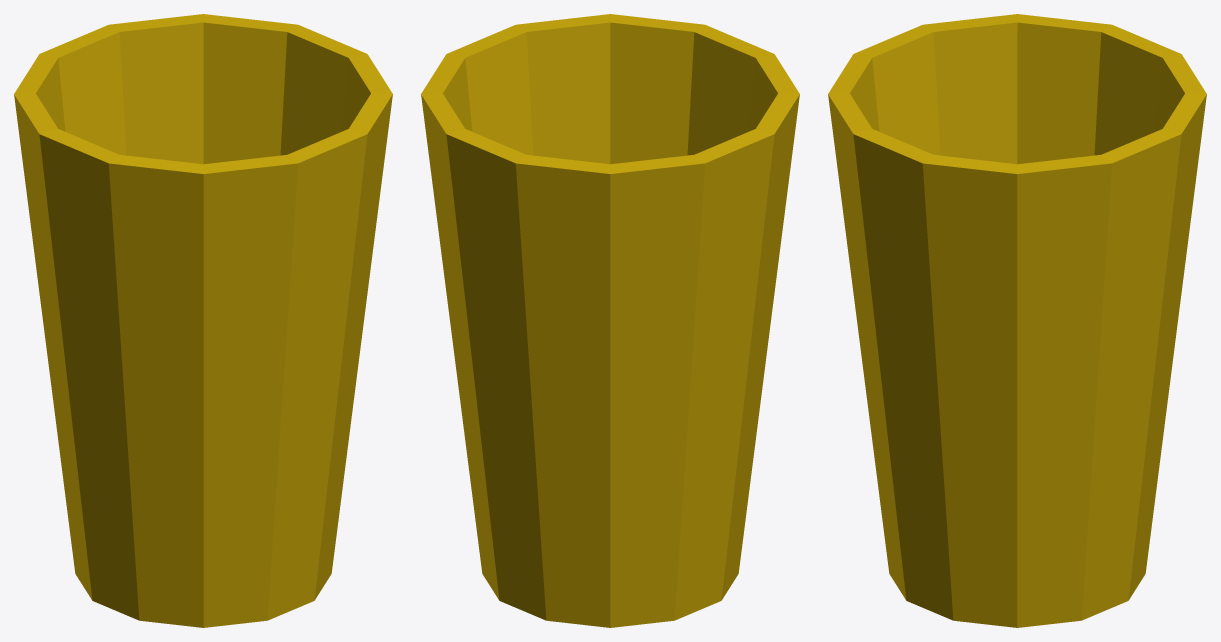
The model's file is LudumDareTrashCan 1.fbx.
3 renders of one model, left to right at view 1: azimuth 30°, elevation 25°; view 2: azimuth 150°, elevation 25°; view 3: azimuth 270°, elevation 25°, orthographic.
Visible parts, largest first — view 1: Trash Can; view 2: Trash Can; view 3: Trash Can.
Part boxes in pixels (x1,y1,x2,y2): Trash Can: (14,14,392,627); Trash Can: (421,14,799,627); Trash Can: (828,14,1206,627).
Size of the model in its own units: 62.71 by 87.73 by 62.71.
